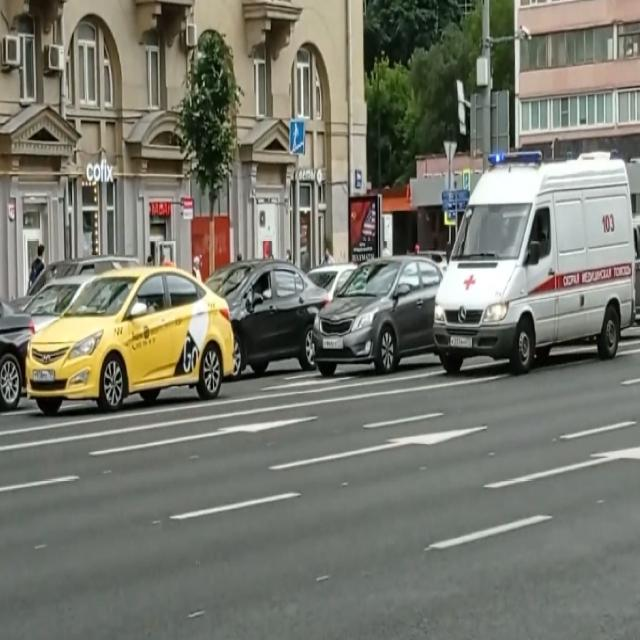ambulance: (432, 149, 635, 376)
non emergency car: (26, 257, 234, 421), (200, 265, 328, 383), (314, 260, 440, 379)
